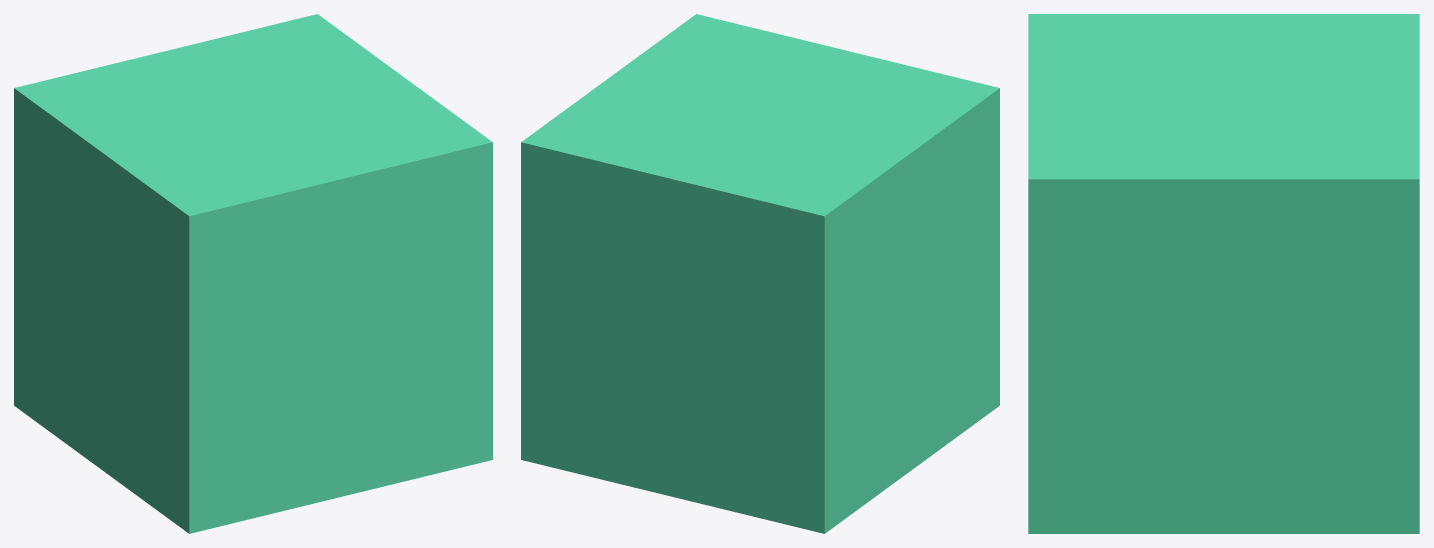
Rendered from room.gltf.
3 views of the same model, side by side, from view 1: azimuth 30°, elevation 25°; view 2: azimuth 150°, elevation 25°; view 3: azimuth 270°, elevation 25° (orthographic). The views are drawn at different scales.
Visible parts, largest first — view 1: Cube; view 2: Cube; view 3: Cube.
Boxes of the visible parts, x1,y1,x2,y2 form: Cube: [14, 14, 492, 533]; Cube: [521, 14, 999, 533]; Cube: [1028, 14, 1419, 533].
Bounding box in the file's own units: 144 × 144 × 144.
